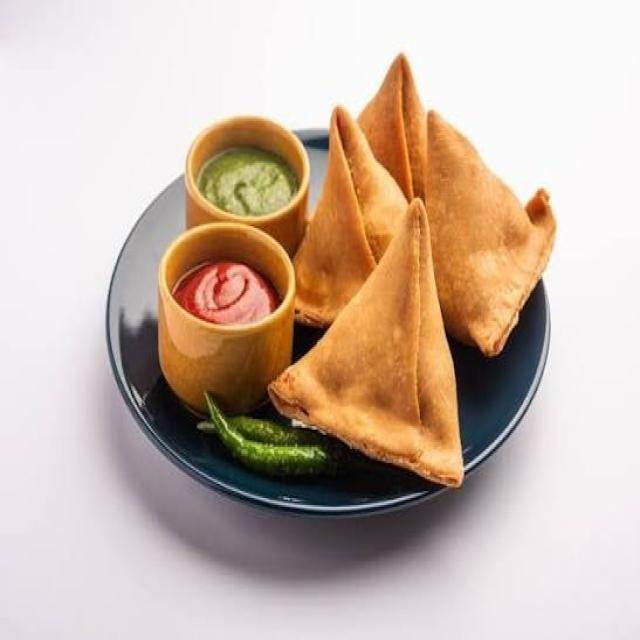Samboosa: (294, 80, 552, 487)
